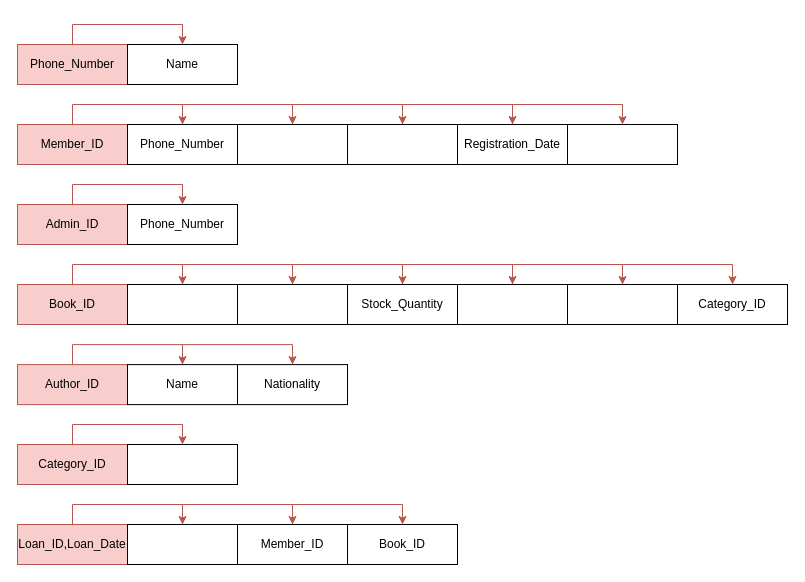
Some shapes in this 805 by 582 pixel diagram are drawn without their labels. Each missing label, with the centre of its shape:
Address: pixel 622 144
Age: pixel 292 144
Birth_Date: pixel 402 144
Category_Name: pixel 182 464
ISBN: pixel 622 304
Number_of_Pages: pixel 292 304
Publication_Date: pixel 512 304
Return_Date: pixel 182 544
Title: pixel 182 304
